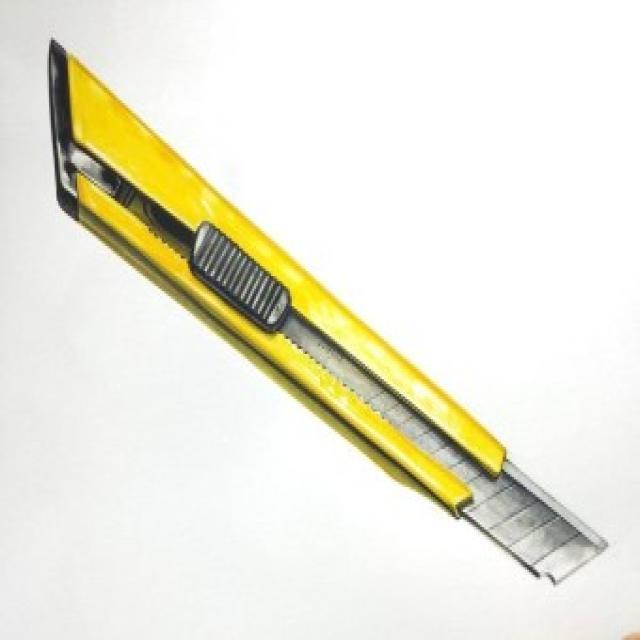cutter: (43, 31, 607, 598)
